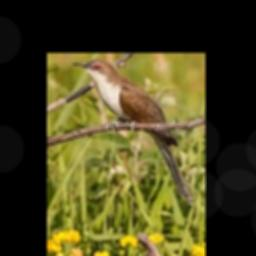Cuckoo: (71, 59, 195, 204)
